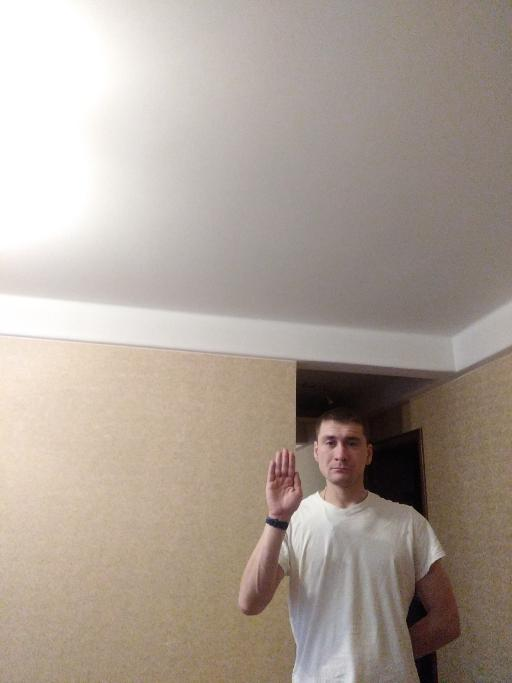stop: (264, 444, 305, 520)
